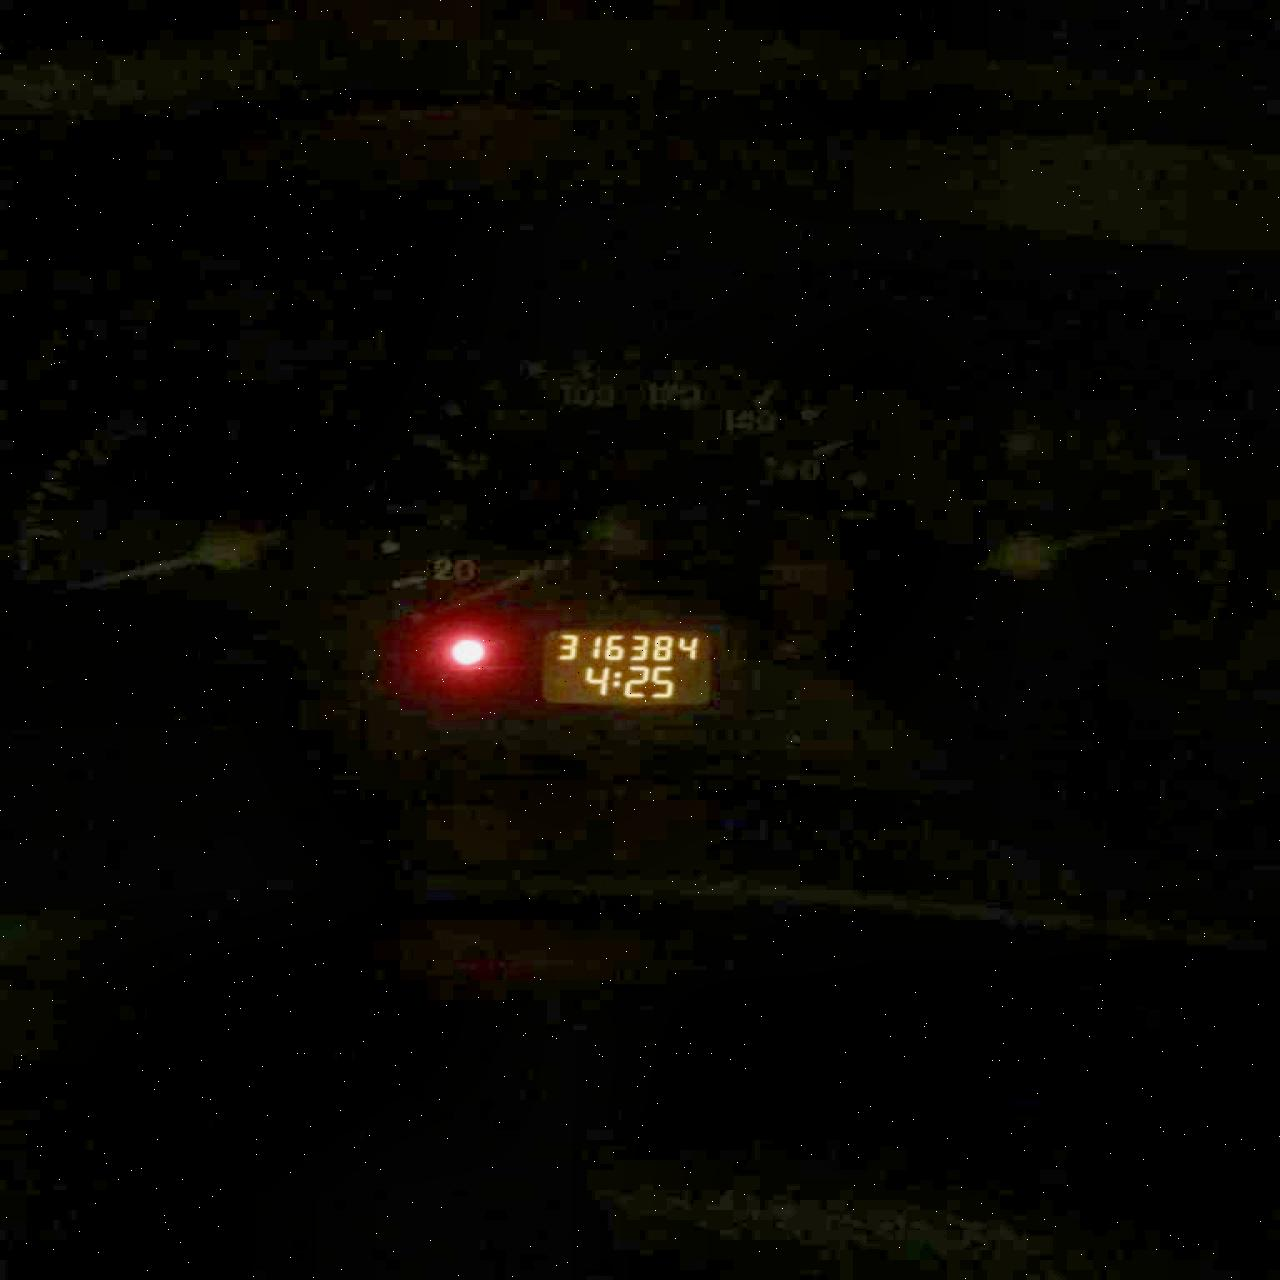1: (591, 635, 601, 659)
2: (620, 663, 648, 697)
3: (557, 632, 577, 660), (627, 634, 648, 660)
4: (581, 665, 608, 695), (675, 636, 696, 659)
5: (648, 665, 672, 697)
6: (601, 634, 624, 660)
8: (651, 634, 672, 660)
X: (610, 670, 620, 686)
odometer: (535, 626, 713, 706)
